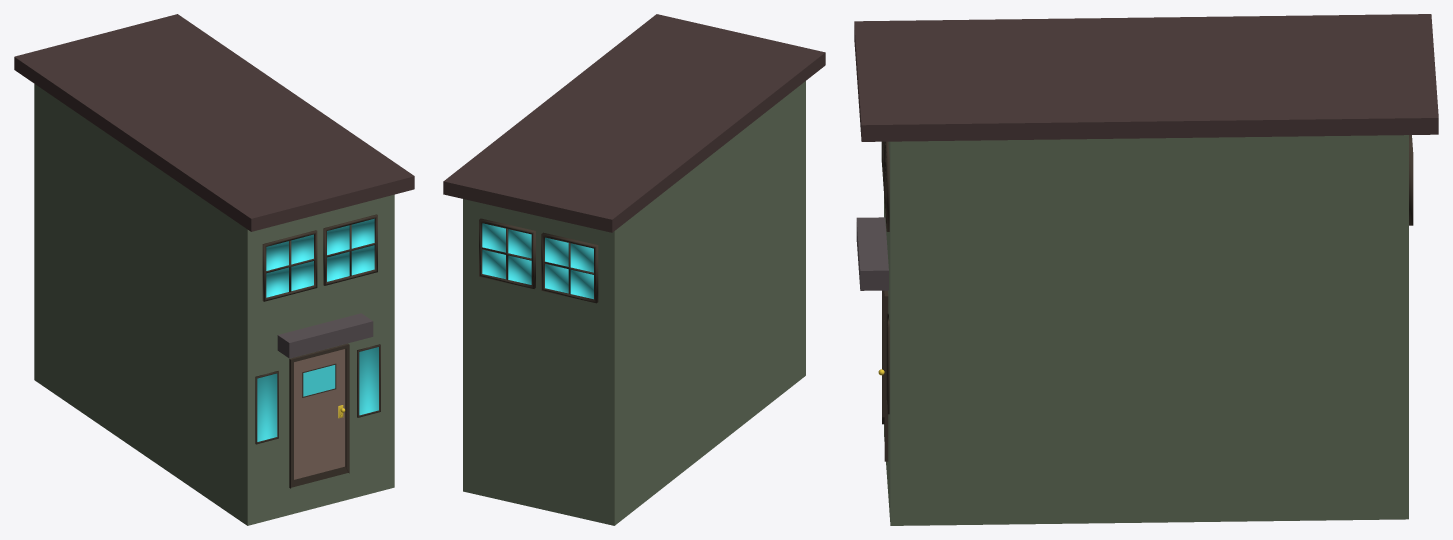
File: gazette_compressed.glb
The picture shows the model from 3 angles, left to right: view 1: azimuth 30°, elevation 25°; view 2: azimuth 150°, elevation 25°; view 3: azimuth 270°, elevation 25°; orthographic projection. The views are drawn at different scales.
Visible parts, largest first — view 1: Cube.303, Cube.304, Cube.311; view 2: Cube.303, Cube.304; view 3: Cube.303, Cube.304, Cube.311.
Boxes of the visible parts, bbox=[...] form: Cube.303: bbox=[14, 14, 414, 525]; Cube.304: bbox=[255, 214, 380, 488]; Cube.311: bbox=[277, 313, 373, 358]; Cube.303: bbox=[443, 14, 825, 525]; Cube.304: bbox=[479, 218, 598, 303]; Cube.303: bbox=[854, 14, 1438, 525]; Cube.304: bbox=[881, 135, 1413, 461]; Cube.311: bbox=[856, 217, 888, 290].
Size of the model in its own units: 0.8421 by 1.43 by 1.87.
